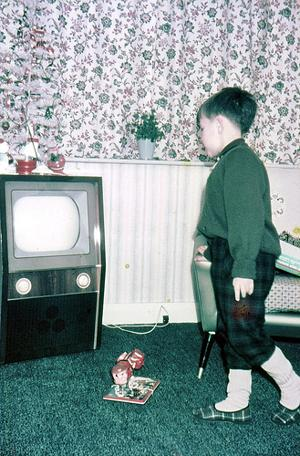person: (196, 92, 299, 425)
